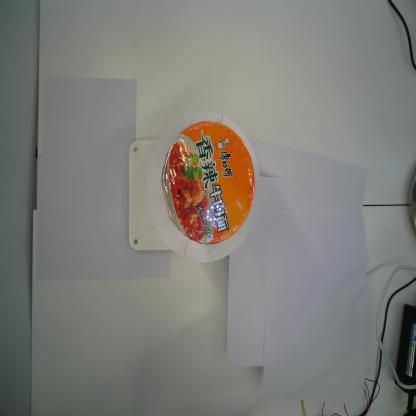Instant Noodles: (160, 119, 257, 248)
